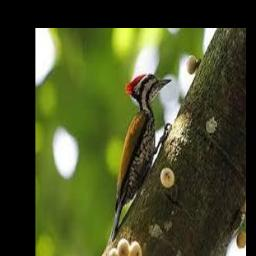Woodpecker: (109, 74, 172, 242)
